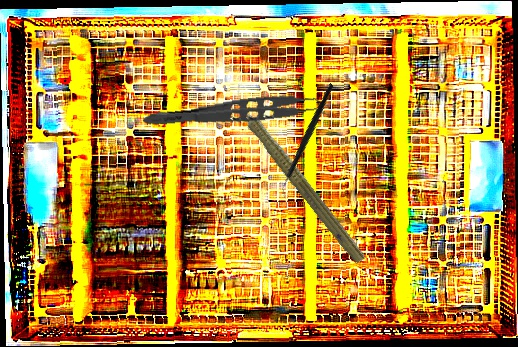Chopper: (250, 83, 366, 199)
Handpiece: (220, 81, 373, 267)
Tissue Forceps: (141, 88, 332, 142)
